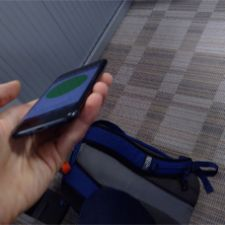focus: (44, 76, 88, 102)
